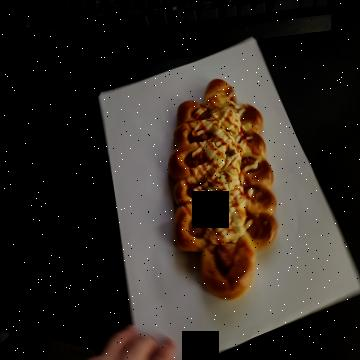pizza_bread: (168, 81, 280, 303)
